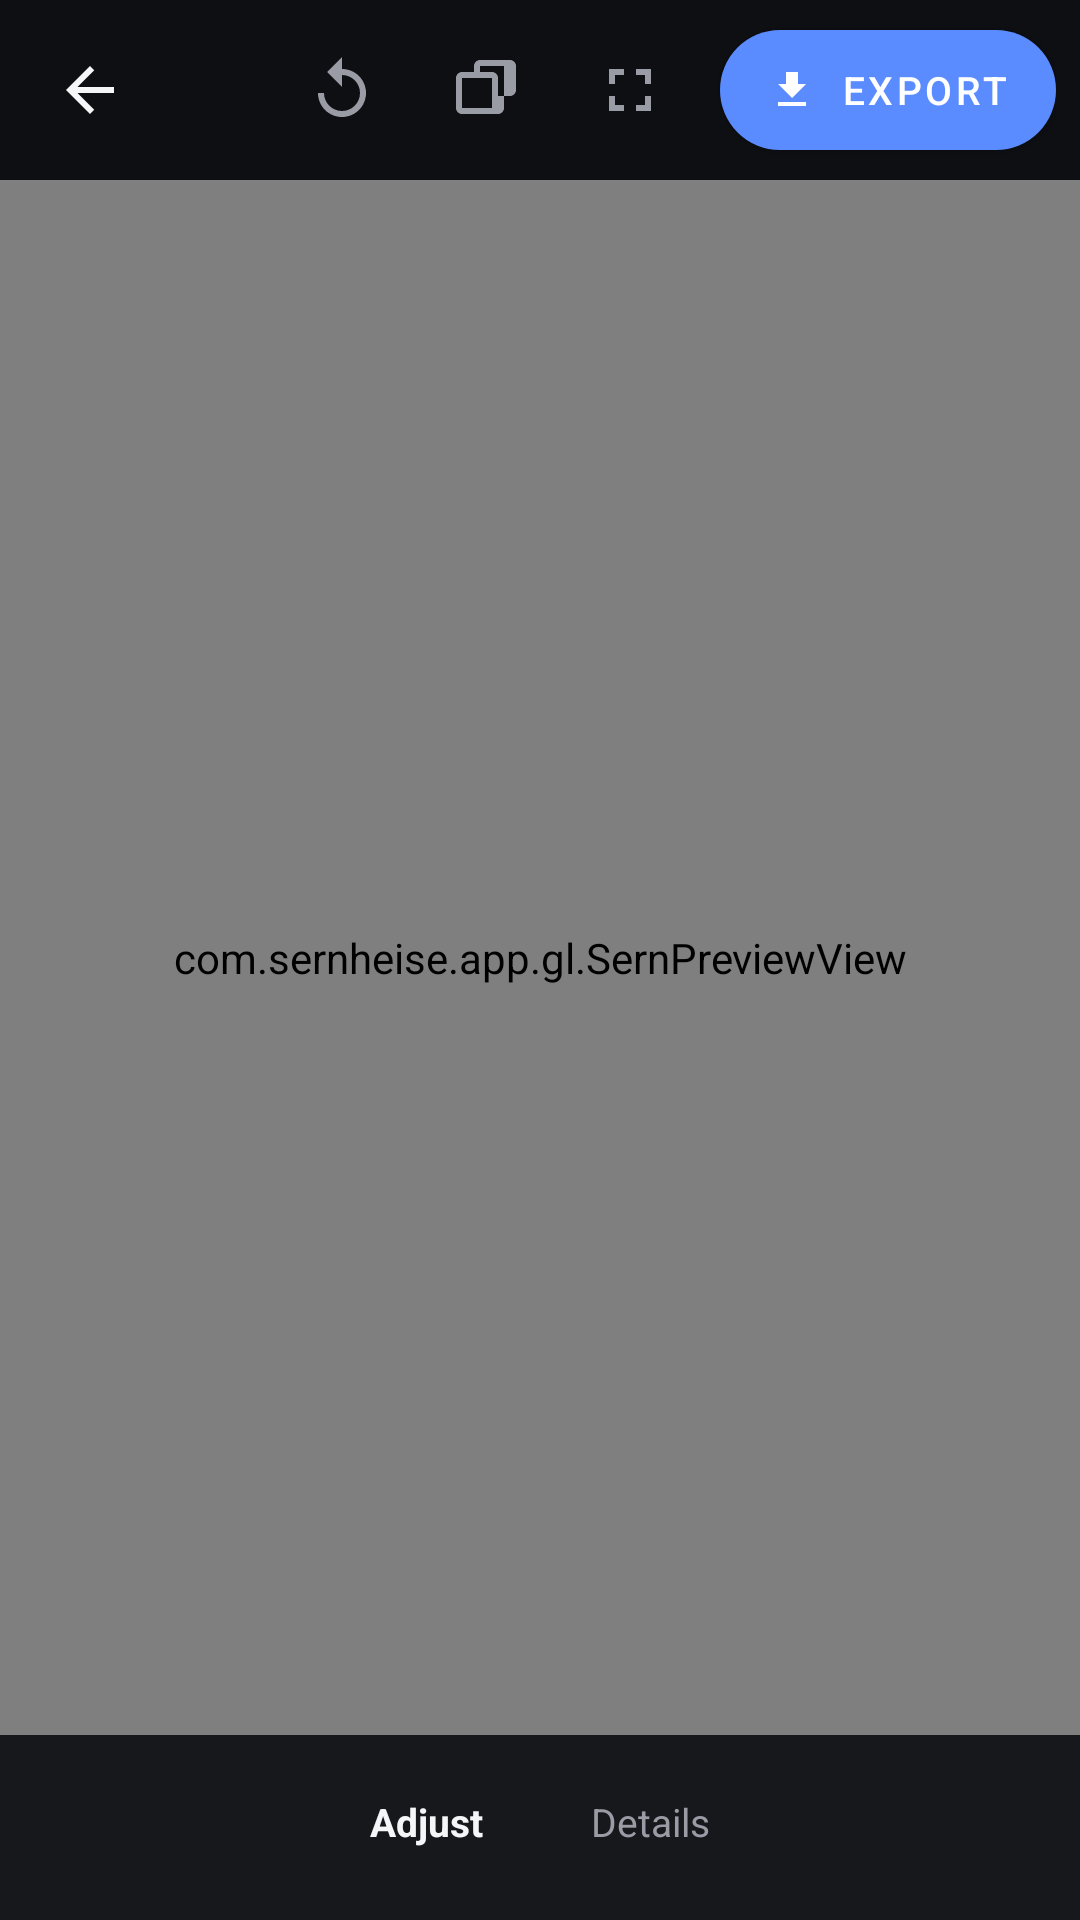

Screen size 1080*1920. Icon name, then its box in pixels as [left=x1, top=y1, right=x2, bottom=y2]:
back: [left=66, top=66, right=114, bottom=114]
Compare: [left=456, top=60, right=516, bottom=114]
Fullscreen: [left=609, top=69, right=651, bottom=111]
Reset: [left=318, top=57, right=366, bottom=117]
